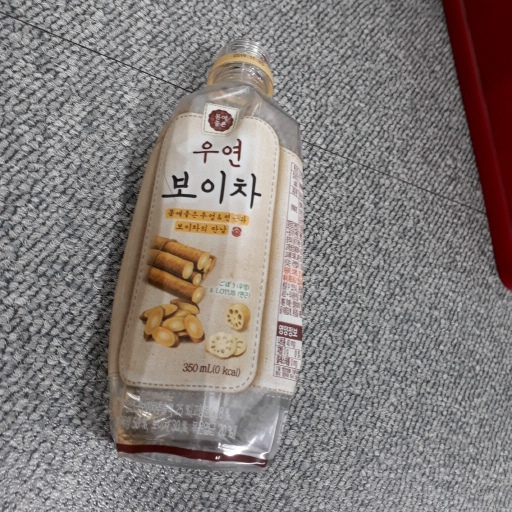Plastic_0: (106, 41, 308, 467)
